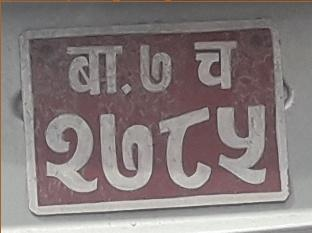2: (39, 109, 100, 197)
5: (214, 99, 273, 190)
7: (98, 108, 157, 194), (136, 41, 178, 98)
8: (155, 103, 215, 192)
ba: (62, 42, 126, 100)
cha: (190, 38, 241, 91)
